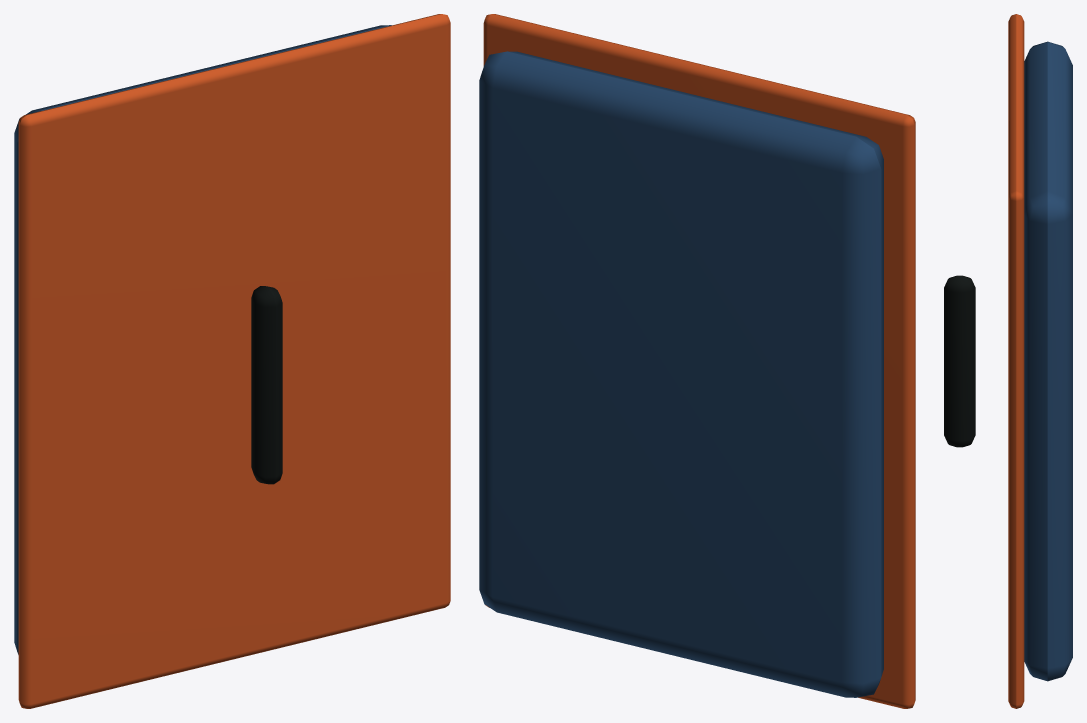
File: shield.glb
3 views of the same model, side by side, from view 1: azimuth 30°, elevation 25°; view 2: azimuth 150°, elevation 25°; view 3: azimuth 270°, elevation 25° (orthographic). The views are drawn at different scales.
Parts seen in each view (by area): view 1: V2_shield_orange.005, V2_shield_metal.005, V2_shield_blue.005; view 2: V2_shield_blue.005, V2_shield_orange.005; view 3: V2_shield_blue.005, V2_shield_orange.005, V2_shield_metal.005.
Part boxes in pixels (x1,y1,x2,y2): V2_shield_orange.005: [18, 14, 450, 708]; V2_shield_metal.005: [251, 286, 282, 484]; V2_shield_blue.005: [14, 25, 391, 654]; V2_shield_blue.005: [479, 51, 883, 697]; V2_shield_orange.005: [483, 14, 915, 708]; V2_shield_blue.005: [1024, 41, 1072, 681]; V2_shield_orange.005: [1008, 14, 1024, 708]; V2_shield_metal.005: [944, 275, 975, 447].
Size of the model in its own units: 0.69 by 0.91 by 0.205.
